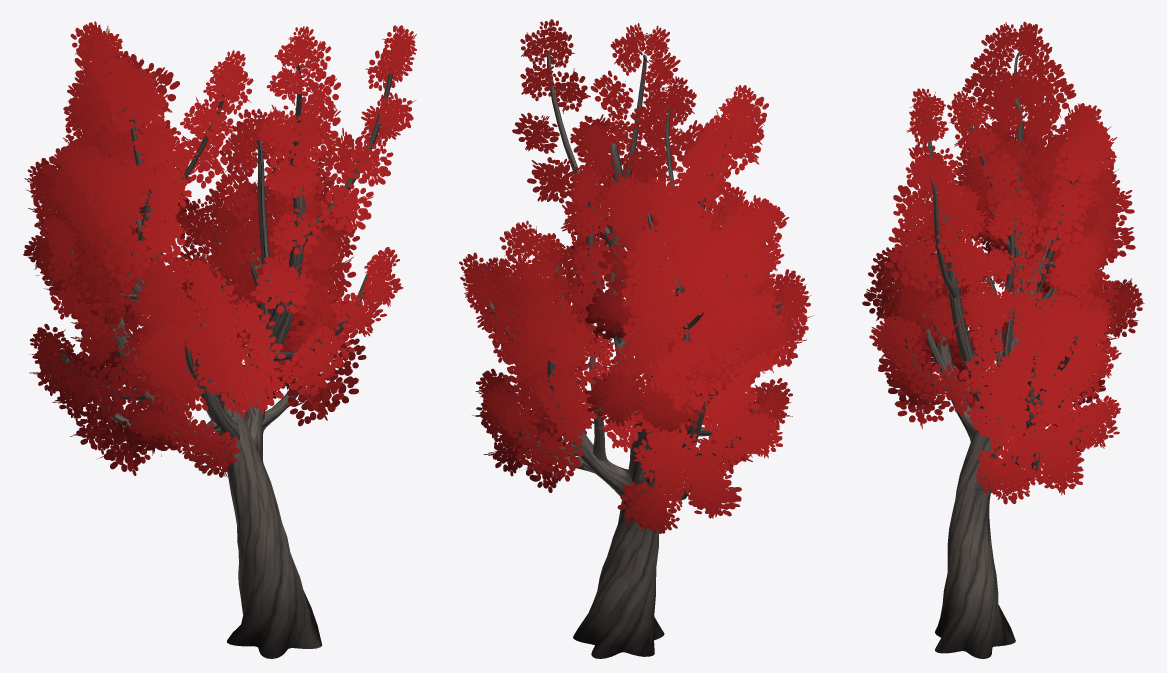
The model's file is TwistedTree_2.glb.
3 renders of one model, left to right at view 1: azimuth 30°, elevation 25°; view 2: azimuth 150°, elevation 25°; view 3: azimuth 270°, elevation 25°, orthographic. The views are drawn at different scales.
Parts seen in each view (by area): view 1: TwistedTree_2; view 2: TwistedTree_2; view 3: TwistedTree_2.
Part boxes in pixels (<box>): TwistedTree_2: <box>23,21,416,658</box>; TwistedTree_2: <box>459,19,814,658</box>; TwistedTree_2: <box>862,21,1144,658</box>.
Bounding box in the file's own units: 10.56 × 18.95 × 9.2.
Materials: 2 (2 with a texture image).
